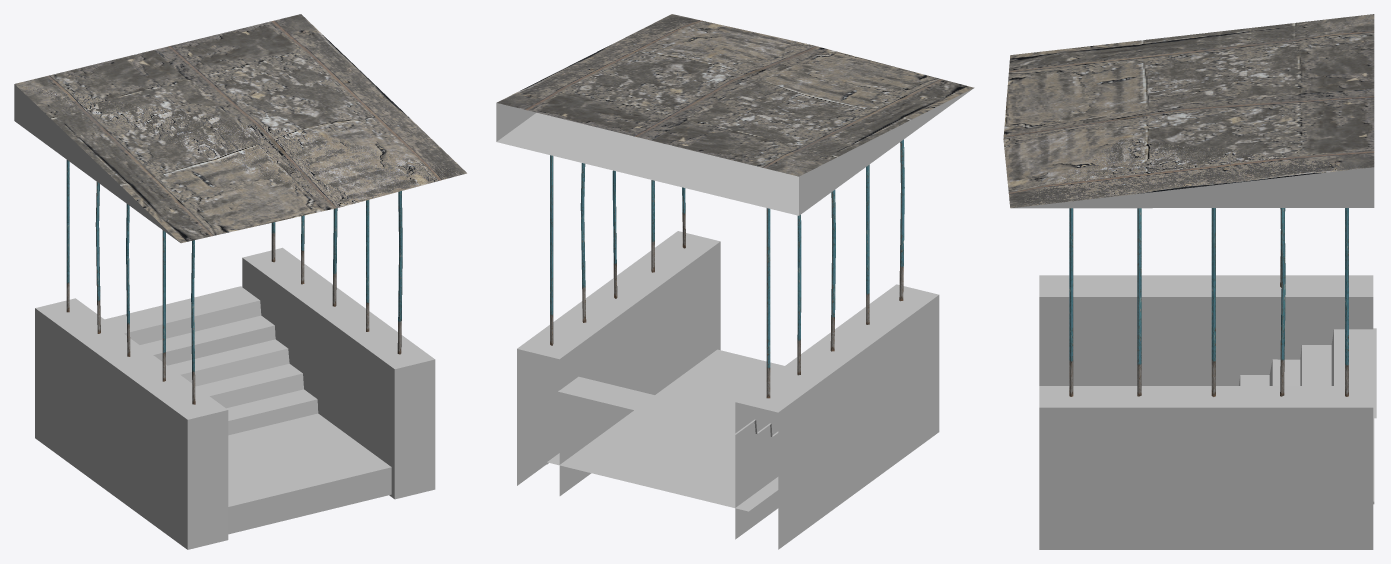
The model's file is Porch_06.fbx.
The picture shows the model from 3 angles, left to right: view 1: azimuth 30°, elevation 25°; view 2: azimuth 150°, elevation 25°; view 3: azimuth 270°, elevation 25°; orthographic projection. The views are drawn at different scales.
Parts seen in each view (by area): view 1: Porch_06; view 2: Porch_06; view 3: Porch_06.
Part boxes in pixels (left/top/right/bottom): Porch_06: left=14, top=14, right=466, bottom=549; Porch_06: left=496, top=14, right=974, bottom=549; Porch_06: left=1003, top=14, right=1376, bottom=549.
Size of the model in its own units: 317 by 326 by 379.
